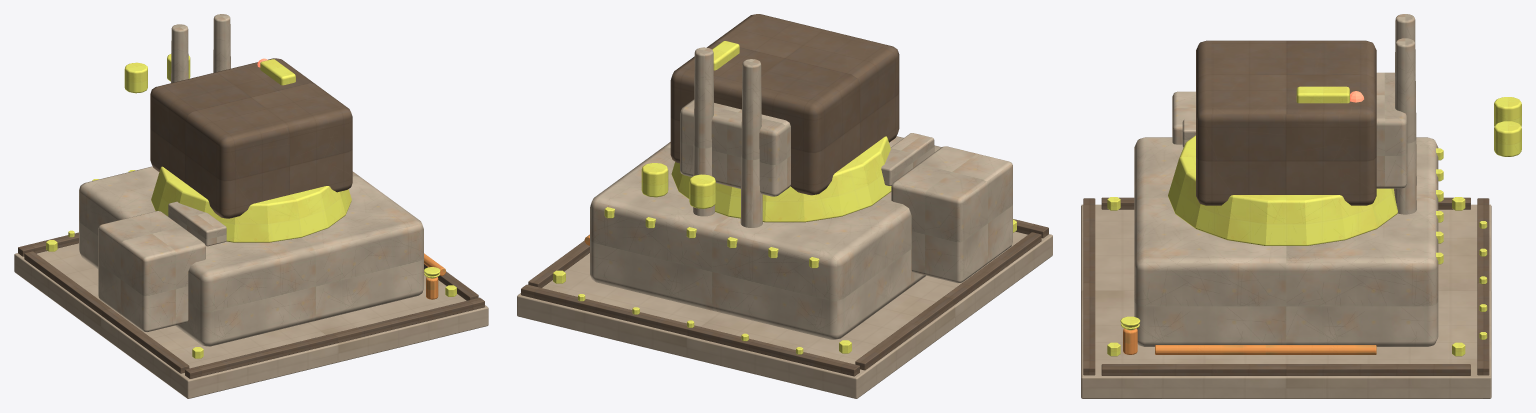
File: ff-gun-turret.glb
The picture shows the model from 3 angles, left to right: view 1: azimuth 30°, elevation 25°; view 2: azimuth 150°, elevation 25°; view 3: azimuth 270°, elevation 25°; orthographic projection. The views are drawn at different scales.
Visible parts, largest first — view 1: Skirt, Head, Pad.009, Bolt.016, PadLipN.009, FeedChute, Barrel, Barrel.001, Muzzle, Sight, PadPipe.009; view 2: Skirt, Pad.009, Head, PadLipN.009, Bolt.016, Mantlet, Barrel, Barrel.001, FeedChute, Muzzle.001, Muzzle, Sight; view 3: Skirt, Head, Pad.009, Bolt.016, PadLipN.009, Mantlet, Barrel.001, PadPipe.009, Sight, Muzzle.001, Muzzle, Barrel.
Boxes of the visible parts, x1,y1,x2,y2 form: Skirt: (79,166,423,346); Head: (150,58,352,218); Pad.009: (14,243,488,398); Bolt.016: (46,166,456,358); PadLipN.009: (18,232,484,378); FeedChute: (168,201,226,246); Barrel: (171,24,188,83); Barrel.001: (213,14,230,72); Muzzle: (124,62,147,93); Sight: (260,59,295,85); PadPipe.009: (424,253,445,299); Skirt: (590,136,1012,339); Pad.009: (517,231,1052,398); Head: (670,14,899,195); PadLipN.009: (521,219,1048,376); Bolt.016: (553,136,1016,354); Mantlet: (680,99,790,196); Barrel: (740,59,762,227); Barrel.001: (693,47,714,216); FeedChute: (881,133,934,186); Muzzle.001: (641,163,668,197); Muzzle: (689,174,715,208); Sight: (712,41,739,70); Skirt: (1134,91,1438,346); Head: (1196,40,1376,205); Pad.009: (1081,204,1491,398); Bolt.016: (1107,135,1487,356); PadLipN.009: (1083,197,1489,375); Mantlet: (1376,72,1407,188); Barrel.001: (1394,38,1416,214); PadPipe.009: (1123,328,1376,354); Sight: (1296,86,1349,103); Muzzle.001: (1494,121,1521,156); Muzzle: (1494,97,1521,126); Barrel: (1395,14,1416,185).
Bounding box in the file's own units: 2.03 × 1.52 × 2.15.
Materials: 8 (7 with a texture image).
